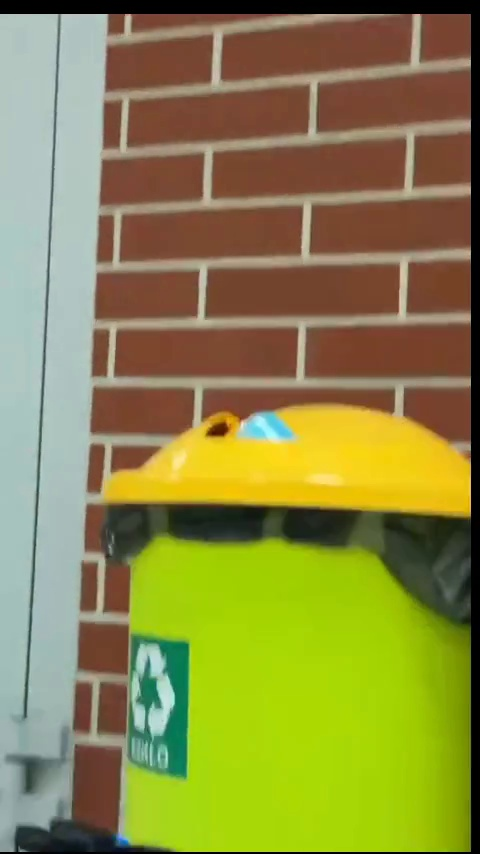drone: (15, 816, 163, 854)
